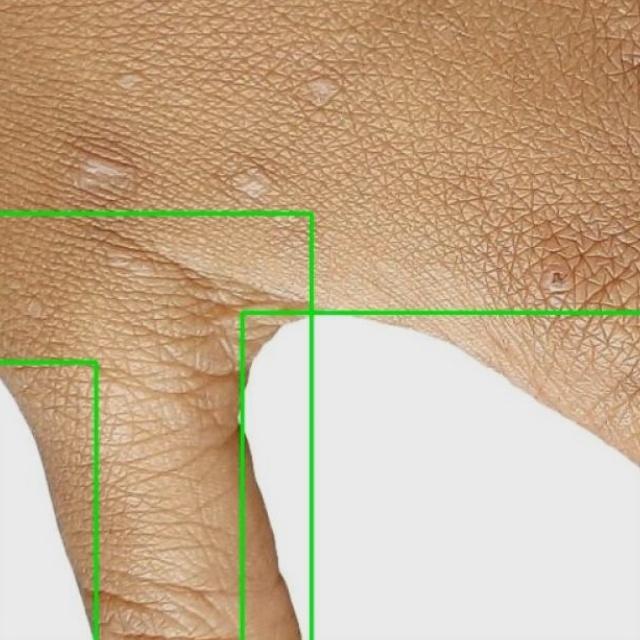Scabies: (0, 212, 311, 639), (242, 312, 639, 639), (0, 362, 96, 639)
